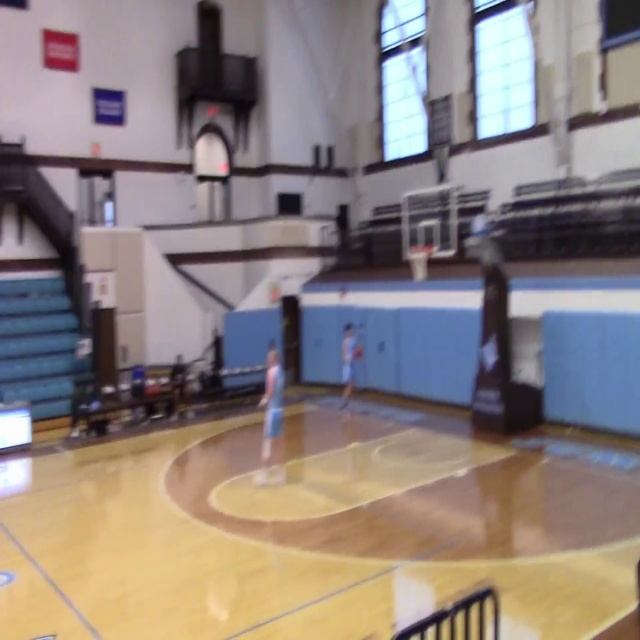Basketball: (352, 344, 363, 359)
